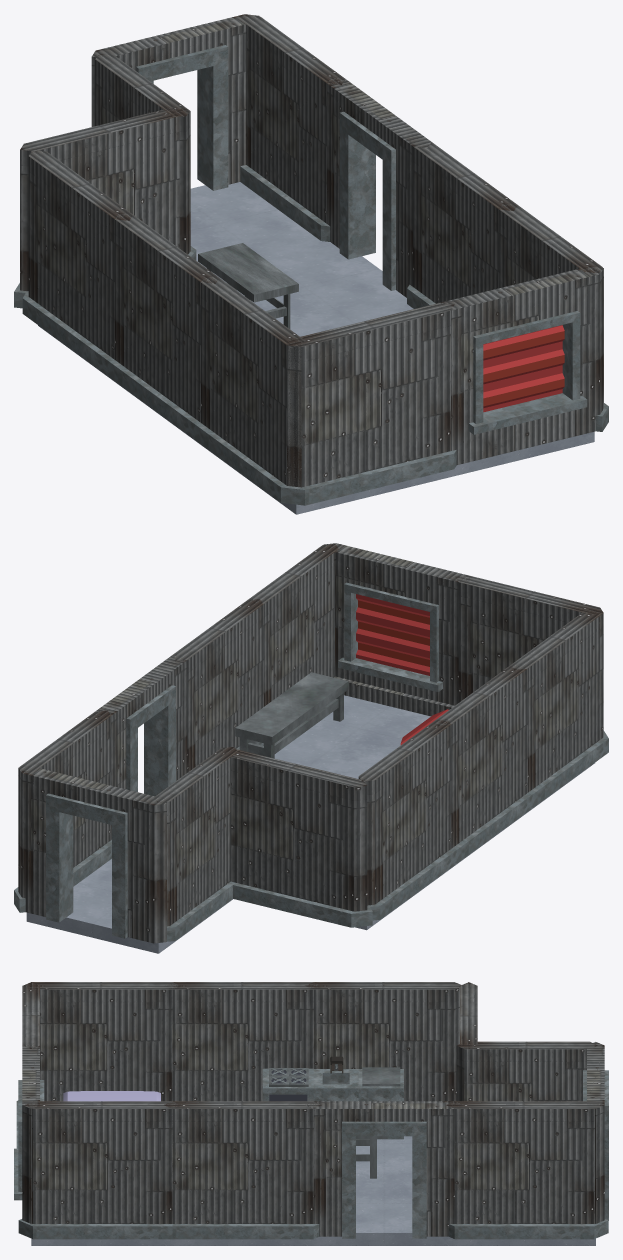
Rendered from Apartment.fbx.
The picture shows the model from 3 angles, top to bottom: view 1: azimuth 30°, elevation 25°; view 2: azimuth 150°, elevation 25°; view 3: azimuth 270°, elevation 25°; orthographic projection. The views are drawn at different scales.
Parts seen in each view (by area): view 1: mergedBlocks; view 2: mergedBlocks; view 3: mergedBlocks.
Boxes of the visible parts, x1,y1,x2,y2 form: mergedBlocks: (14,14,608,514); mergedBlocks: (14,543,608,953); mergedBlocks: (14,982,608,1245).
Bounding box in the file's own units: 22.05 × 11 × 42.15.
14 materials, 8 textured.
